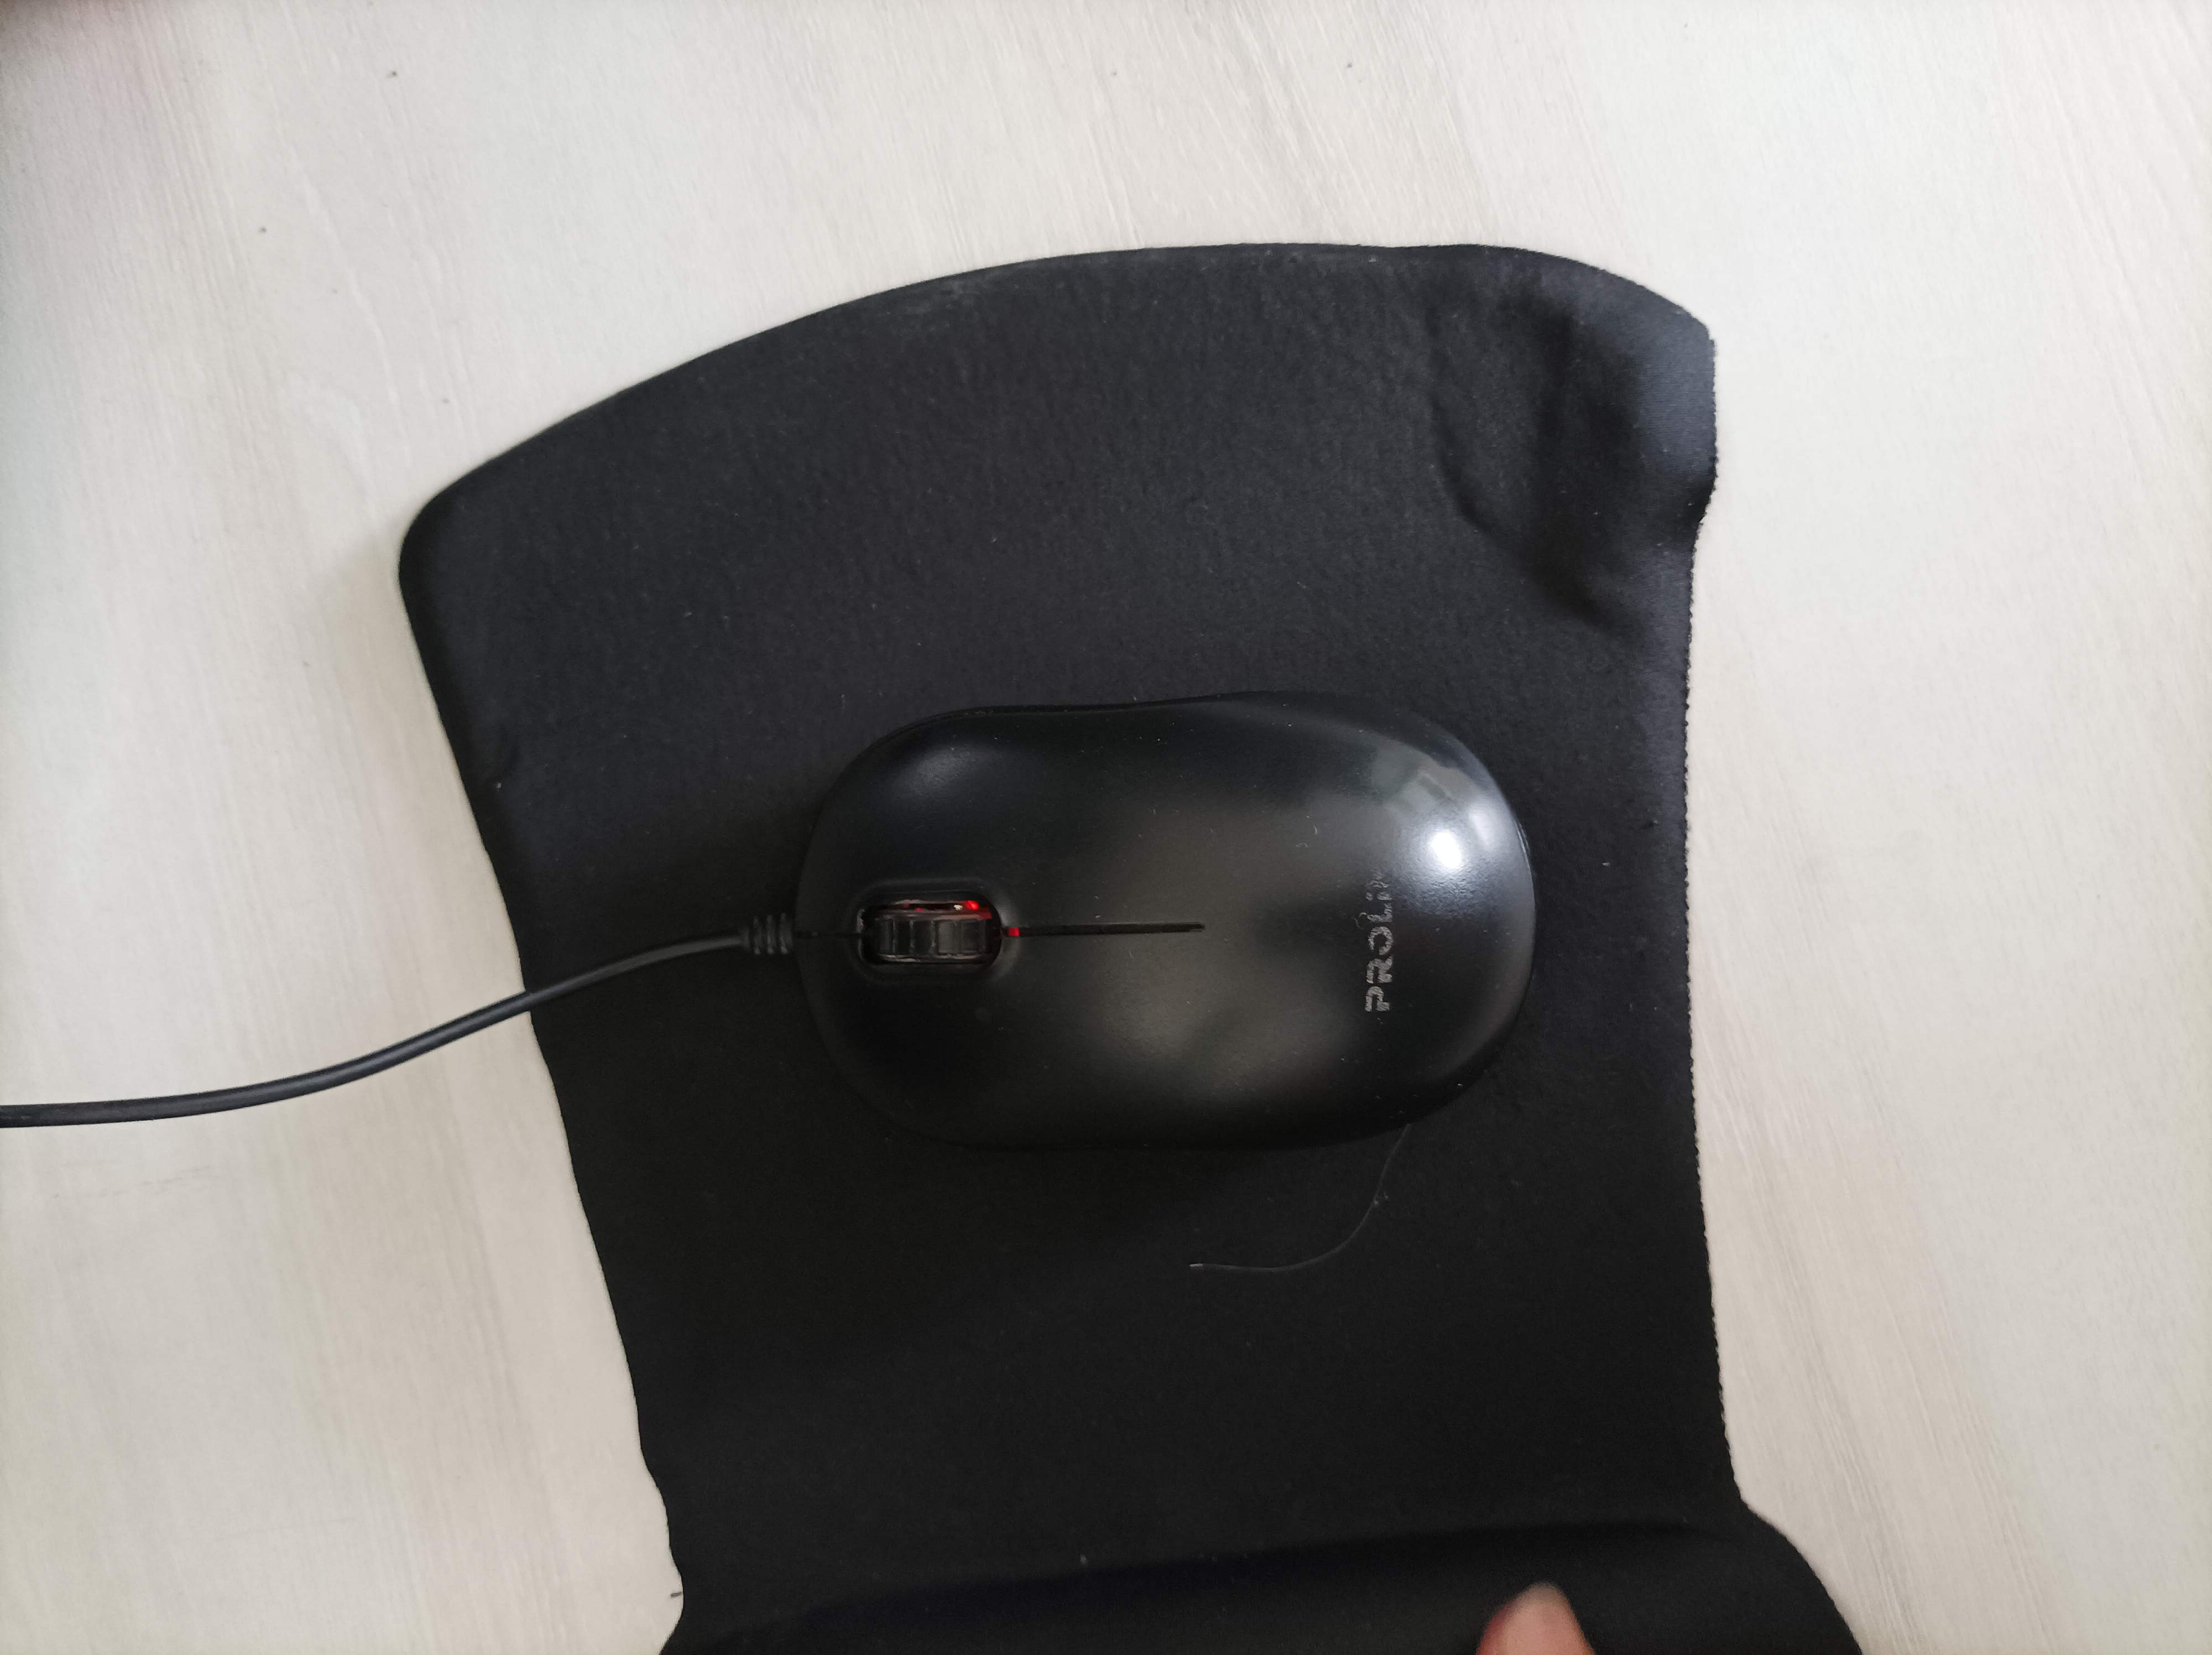mouse: (752, 671, 1546, 1175)
